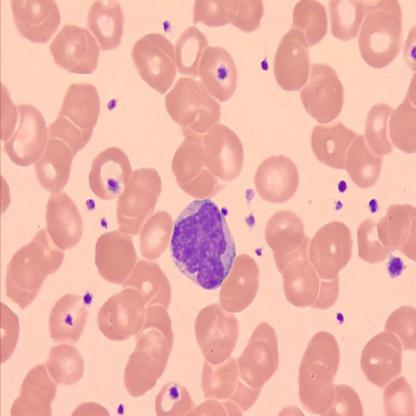Monocyte: (166, 196, 237, 292)
